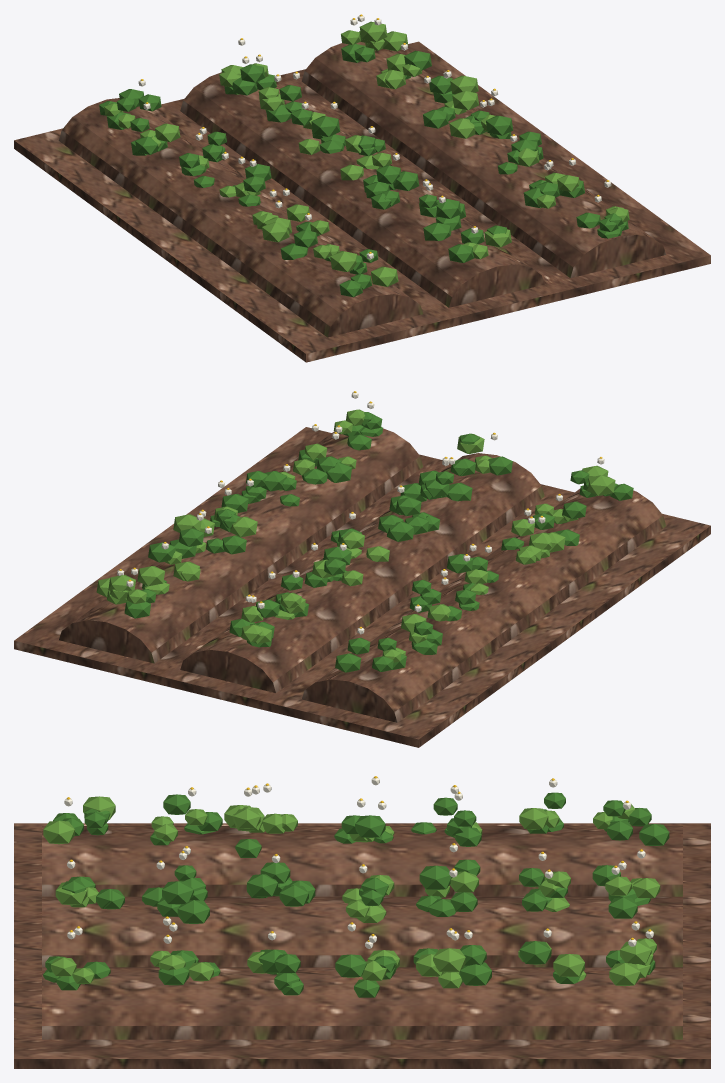
3 views of the same model, one above another, from view 1: azimuth 30°, elevation 25°; view 2: azimuth 150°, elevation 25°; view 3: azimuth 270°, elevation 25° (orthographic). The views are drawn at different scales.
Parts seen in each view (by area): view 1: PotatoPatch; view 2: PotatoPatch; view 3: PotatoPatch.
Boxes of the visible parts, x1,y1,x2,y2 form: PotatoPatch: (14, 14, 710, 362); PotatoPatch: (14, 391, 710, 747); PotatoPatch: (14, 776, 710, 1068).
Bounding box in the file's own units: 4 × 0.7896 × 5.
Materials: 5 (1 with a texture image).
